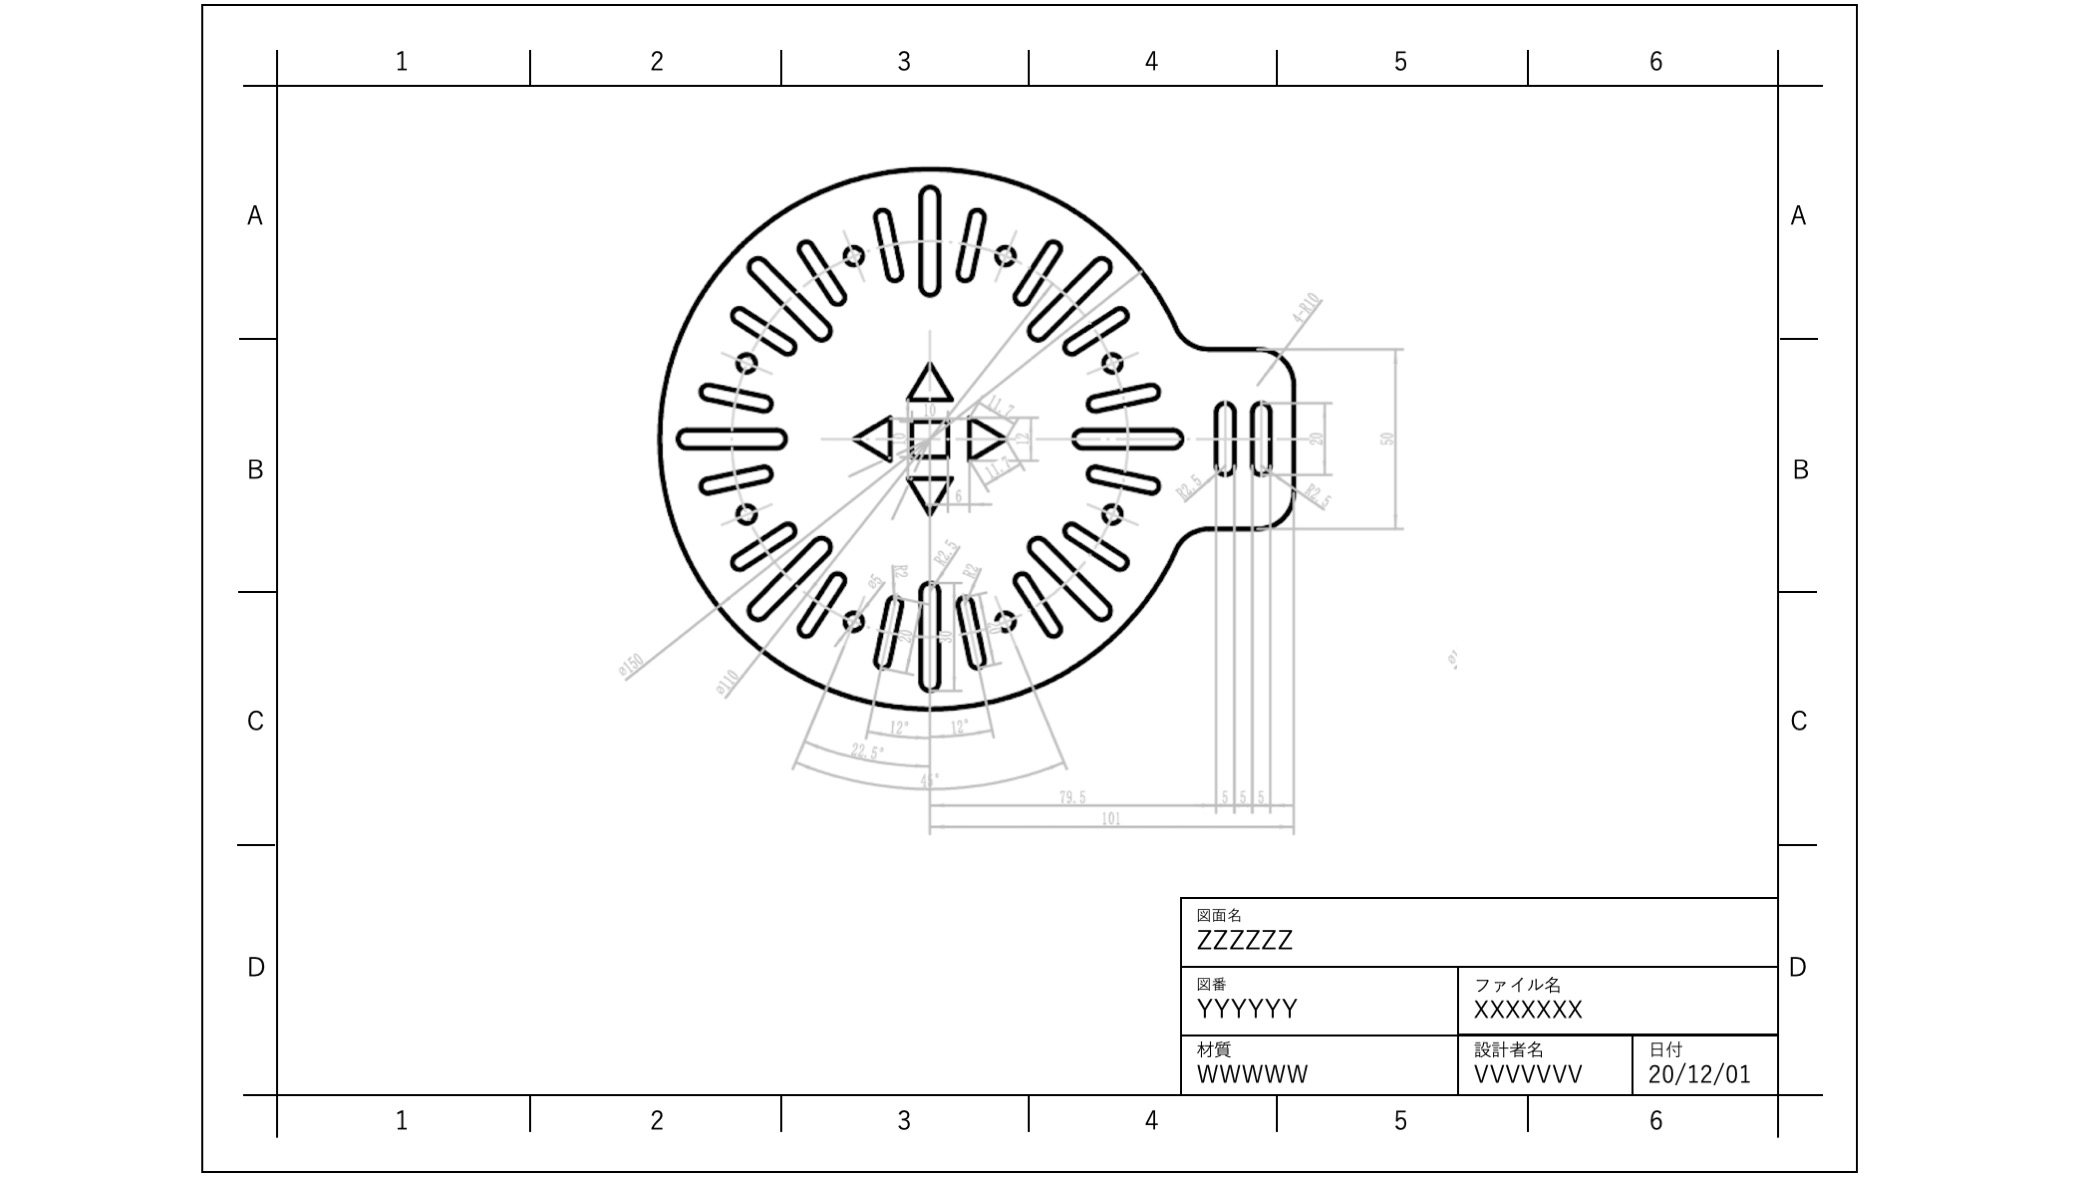circle: (731, 345, 763, 379), (994, 601, 1021, 637), (1098, 497, 1126, 531), (837, 603, 867, 633), (992, 234, 1020, 265), (837, 234, 865, 262), (1089, 345, 1128, 365), (728, 499, 763, 518)
rectangle: (906, 414, 950, 461)
round_rectangle: (747, 526, 837, 624), (1023, 252, 1116, 345), (740, 252, 835, 342), (1027, 531, 1112, 626), (725, 297, 803, 361), (1046, 519, 1137, 572), (790, 224, 845, 307), (1010, 231, 1072, 304), (1062, 298, 1134, 361), (669, 417, 795, 451), (909, 179, 945, 298), (1007, 564, 1064, 637), (694, 368, 777, 417), (798, 565, 851, 639), (913, 575, 945, 694), (692, 456, 777, 499), (1064, 424, 1199, 451), (728, 518, 800, 568), (953, 588, 995, 671), (1083, 373, 1171, 412), (862, 206, 904, 281), (870, 590, 906, 673), (958, 190, 987, 291), (1077, 464, 1171, 495), (1212, 388, 1237, 485), (1248, 394, 1275, 482)
triangle: (848, 410, 896, 467), (900, 469, 953, 518), (903, 358, 955, 405), (963, 412, 1010, 461)
